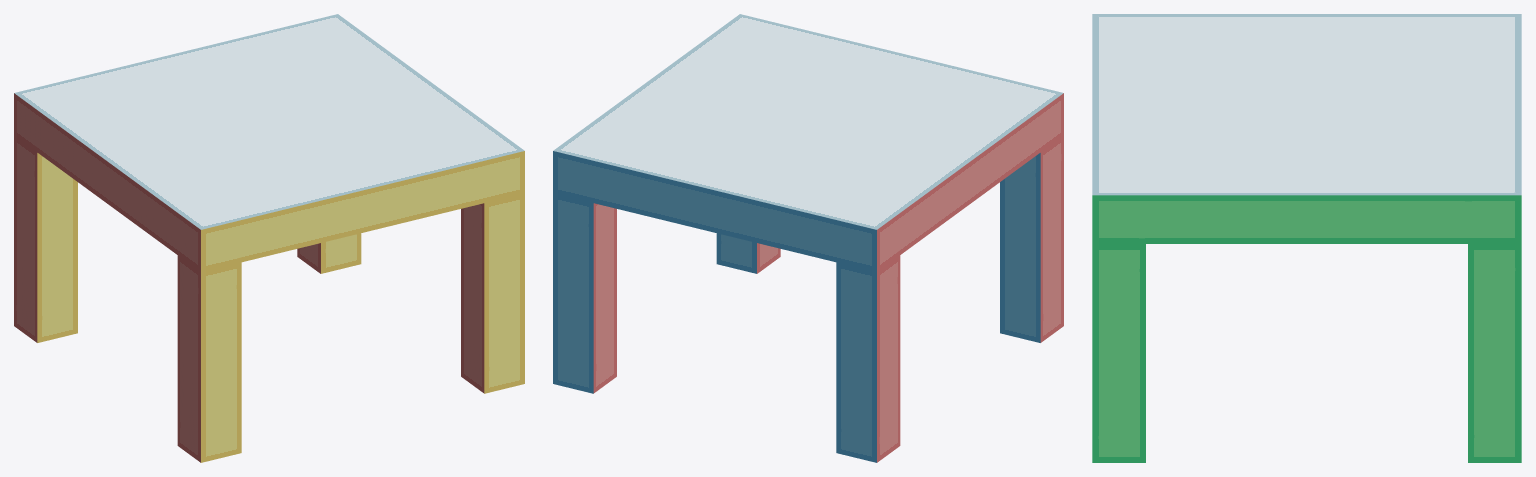
Rendered from PlayingTable.gltf.
The picture shows the model from 3 angles, left to right: view 1: azimuth 30°, elevation 25°; view 2: azimuth 150°, elevation 25°; view 3: azimuth 270°, elevation 25°; orthographic projection. The views are drawn at different scales.
Visible parts, largest first — view 1: tabletop, leg (×4); view 2: tabletop, leg (×4); view 3: tabletop, leg (×2).
Part boxes in pixels (x1,y1,x2,y2): tabletop: (14,14,524,272); leg (×4): (14,135,524,462); tabletop: (553,14,1063,272); leg (×4): (553,135,1063,462); tabletop: (1092,14,1521,243); leg (×2): (1092,244,1521,462).
Size of the model in its own units: 1 by 0.6875 by 1.
1 material, 1 textured.
